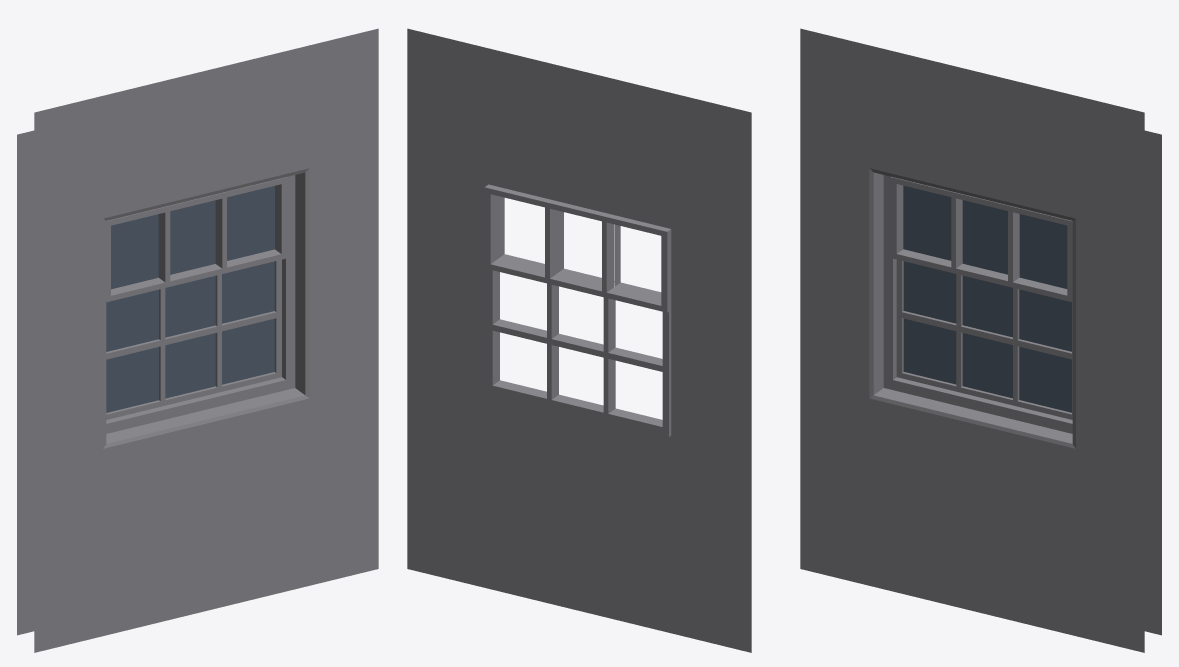
File: env_block_trim_window.glb
The picture shows the model from 3 angles, left to right: view 1: azimuth 30°, elevation 25°; view 2: azimuth 150°, elevation 25°; view 3: azimuth 330°, elevation 25°; orthographic projection.
Parts seen in each view (by area): view 1: part_0, part_1; view 2: part_0; view 3: part_0, part_1.
Boxes of the visible parts, bbox=[...] form: part_0: bbox=[17, 28, 378, 652]; part_1: bbox=[106, 186, 274, 412]; part_0: bbox=[407, 28, 751, 652]; part_0: bbox=[800, 28, 1161, 652]; part_1: bbox=[903, 185, 1071, 412].
Bounding box in the file's own units: 2 × 3 × 0.2397.
